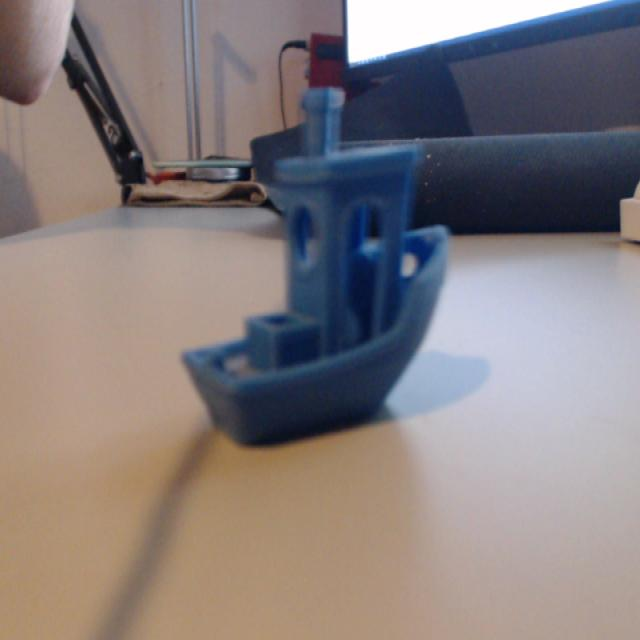benchy: (179, 84, 451, 447)
